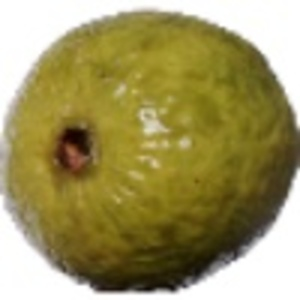goiaba: (4, 5, 295, 292)
